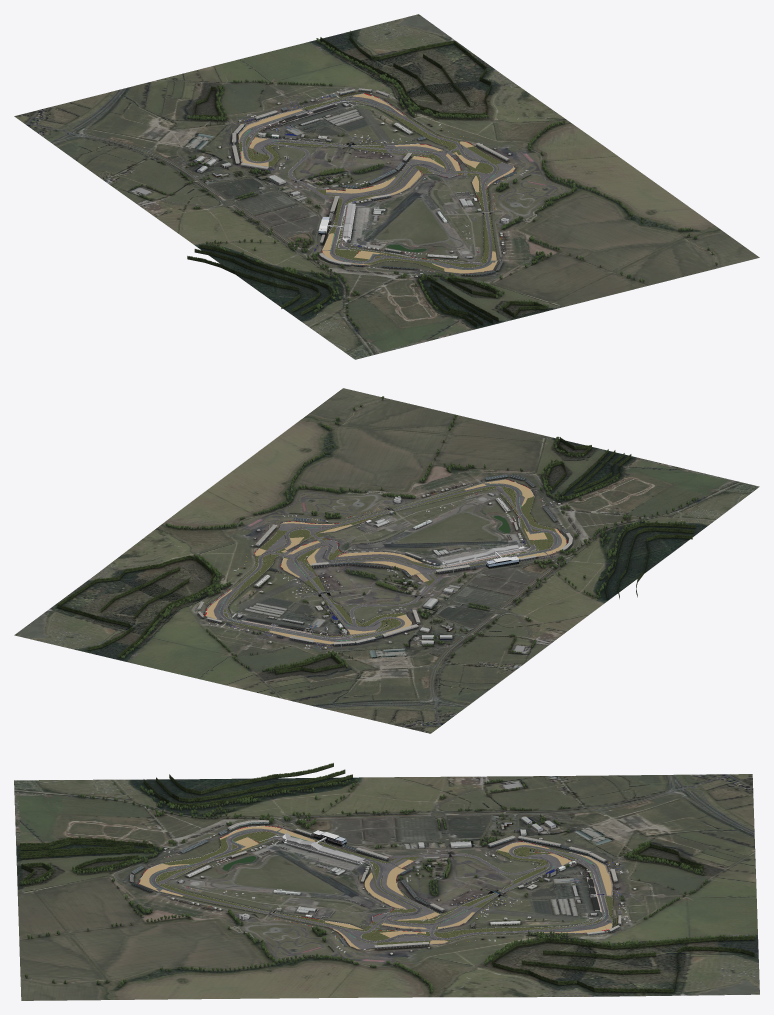
The model's file is Silverstone_GP.glb.
The picture shows the model from 3 angles, top to bottom: view 1: azimuth 30°, elevation 25°; view 2: azimuth 150°, elevation 25°; view 3: azimuth 270°, elevation 25°; orthographic projection. The views are drawn at different scales.
Size of what is drawn, in the model's own units: 2101 by 43.49 by 2836.
Materials: 66 (64 with a texture image).
